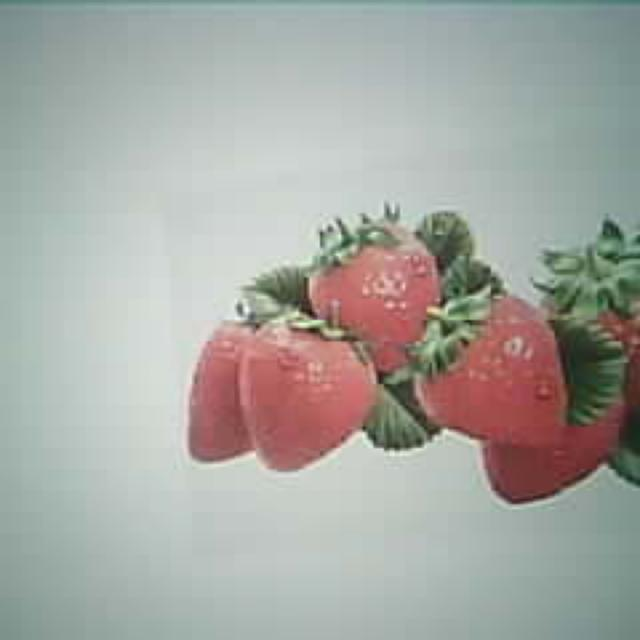strawberry: (418, 301, 568, 447), (242, 319, 376, 473)
